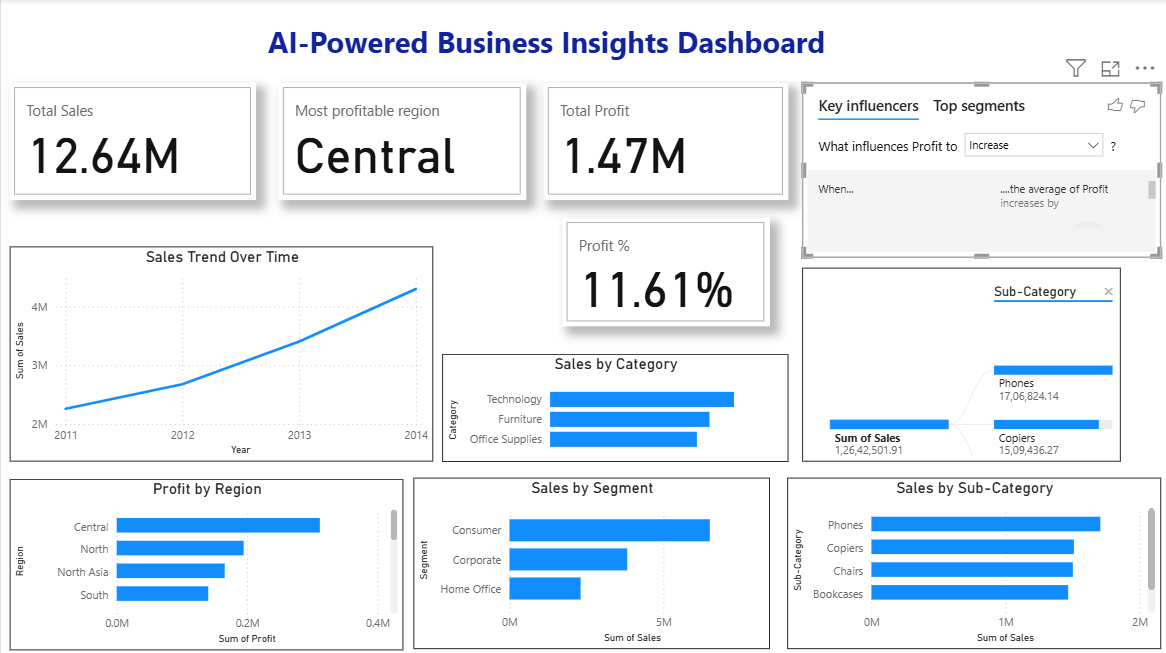

This screenshot's page, from the dashboard's own definition file:
{"tool":"powerbi","page":{"name":"Page 1","canvas":[1280,720],"ordinal":0},"visuals":[{"type":"lineChart","title":"Sales Trend Over Time","fields":{"Category":["Orders.Order Date.Variation.Date Hierarchy.Year","Orders.Order Date.Variation.Date Hierarchy.Quarter","Orders.Order Date.Variation.Date Hierarchy.Month","Orders.Order Date.Variation.Date Hierarchy.Day"],"Y":["Sum(Orders.Sales)"]},"box":[9.6,271.7,465.2,236],"z":0},{"type":"barChart","title":"Sales by Category","fields":{"Y":["Sum(Orders.Sales)"],"Category":["Orders.Category"]},"box":[484.4,389.7,380.1,118],"z":1000},{"type":"barChart","title":"Profit by Region","fields":{"Category":["Orders.Region"],"Y":["Sum(Orders.Profit)"]},"box":[9.6,526.9,432.2,188],"z":2000},{"type":"barChart","title":"Sales by Sub-Category","fields":{"Category":["Orders.Sub-Category"],"Y":["Sum(Orders.Sales)"]},"box":[863.1,525.6,410.3,188],"z":3000},{"type":"barChart","title":"Sales by Segment","fields":{"Category":["Orders.Segment"],"Y":["Sum(Orders.Sales)"]},"box":[452.8,525.6,391.1,188],"z":4000},{"type":"cardVisual","fields":{"Data":["Orders.Total Profit"]},"box":[595.5,91.9,269,129],"z":5000},{"type":"cardVisual","fields":{"Data":["Orders.Total Sales"]},"box":[9.6,91.9,270.3,129],"z":6000},{"type":"cardVisual","fields":{"Data":["Orders.Profit %"]},"box":[616.1,240.1,227.8,119.4],"z":7000},{"type":"keyDriversVisual","fields":{"Target":["Orders.Profit"],"ExplainBy":["Orders.Segment","Orders.Region","Orders.Category","Orders.Ship Mode","Orders.Sub-Category"]},"box":[879.6,91.9,393.8,192.1],"z":8000},{"type":"decompositionTreeVisual","fields":{"Analyze":["Sum(Orders.Sales)"],"ExplainBy":["Orders.Sub-Category","Orders.Region","Orders.Category","Orders.Segment"]},"box":[879.6,295,349.9,212.7],"z":9000},{"type":"textbox","box":[288.2,20.6,702.6,68.6],"z":10000},{"type":"cardVisual","fields":{"Data":["Orders.Most profitable region"]},"box":[304.6,91.9,271.7,129],"z":10001}]}

Visuals, with their boxes in screenshot pixels (x1, y1, x2, y2), scaled from the page's 1280x720 canvas onto the 1166x653 screenshot:
"Sales Trend Over Time" lineChart: l=9, t=246, r=433, b=460
"Sales by Category" barChart: l=441, t=353, r=788, b=460
"Profit by Region" barChart: l=9, t=478, r=402, b=648
"Sales by Sub-Category" barChart: l=786, t=477, r=1160, b=647
"Sales by Segment" barChart: l=412, t=477, r=769, b=647
cardVisual - Orders.Total Profit: l=542, t=83, r=788, b=200
cardVisual - Orders.Total Sales: l=9, t=83, r=255, b=200
cardVisual - Orders.Profit %: l=561, t=218, r=769, b=326
keyDriversVisual - Orders.Profit x Orders.Segment: l=801, t=83, r=1160, b=258
decompositionTreeVisual - Sum(Orders.Sales) x Orders.Sub-Category: l=801, t=268, r=1120, b=460
textbox: l=263, t=19, r=903, b=81
cardVisual - Orders.Most profitable region: l=277, t=83, r=525, b=200
